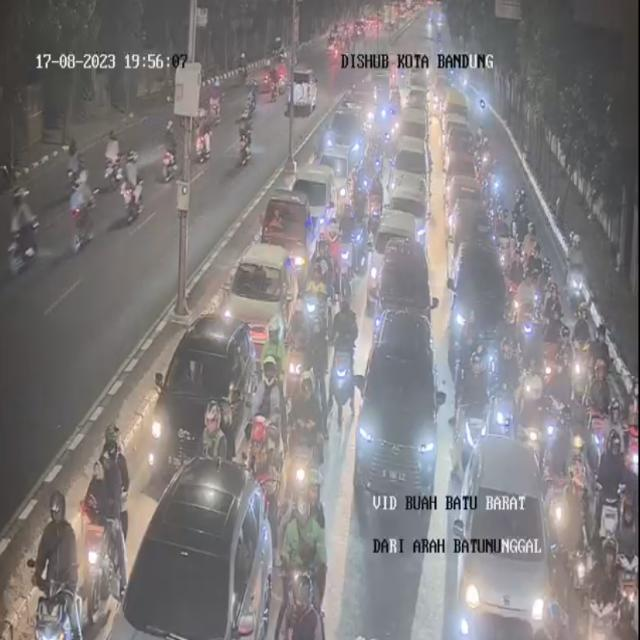cars: (109, 486, 281, 640), (459, 426, 552, 640), (345, 304, 439, 510), (152, 321, 258, 482), (452, 239, 514, 365), (228, 251, 304, 343), (383, 234, 437, 334), (370, 212, 417, 308), (263, 198, 324, 256), (388, 172, 425, 240), (396, 134, 433, 199), (304, 156, 335, 226), (452, 202, 487, 250), (328, 144, 354, 200), (439, 113, 474, 149), (447, 180, 482, 216), (338, 109, 361, 157), (403, 110, 426, 154), (446, 146, 475, 180), (446, 90, 472, 126), (352, 94, 373, 125), (410, 81, 425, 114)
motorcycle: (284, 478, 328, 640), (84, 424, 123, 603), (39, 492, 80, 640), (293, 376, 325, 492), (452, 344, 486, 448), (587, 537, 621, 632), (331, 295, 358, 412), (303, 258, 337, 340), (286, 306, 314, 396), (591, 434, 625, 498), (569, 498, 592, 590), (512, 270, 538, 350), (492, 334, 514, 428), (197, 388, 220, 470), (255, 354, 278, 434), (244, 411, 270, 477), (495, 214, 517, 287), (574, 422, 594, 502), (597, 394, 624, 450), (541, 285, 562, 355), (264, 299, 282, 378), (584, 354, 609, 404), (591, 322, 615, 373), (616, 488, 634, 554), (523, 359, 545, 412), (338, 212, 354, 284), (596, 484, 615, 540), (551, 410, 574, 455), (324, 208, 339, 270), (575, 302, 588, 372), (518, 222, 538, 267), (351, 220, 367, 272), (514, 179, 529, 233), (486, 170, 504, 213), (371, 170, 382, 227), (553, 320, 569, 359), (526, 239, 541, 279), (522, 217, 536, 258), (356, 169, 367, 221), (541, 367, 555, 404), (366, 120, 378, 163), (474, 124, 491, 152), (558, 354, 568, 398), (382, 108, 391, 144), (479, 146, 492, 164)
